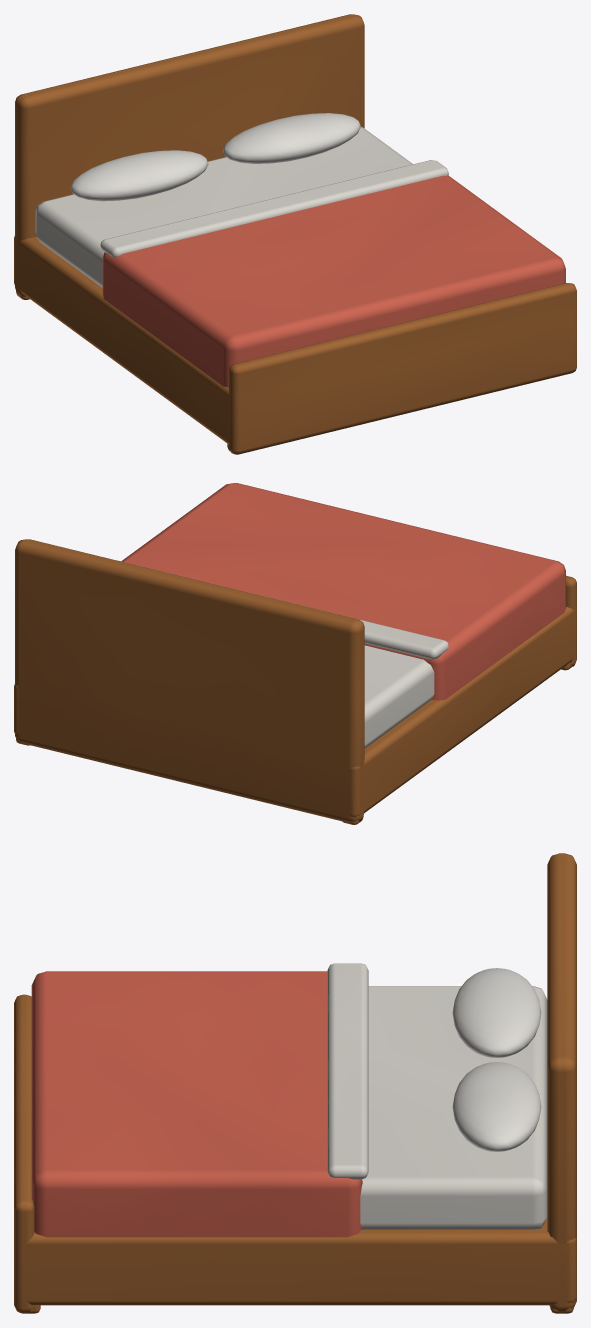
File: furn_bed_simple.glb
The picture shows the model from 3 angles, top to bottom: view 1: azimuth 30°, elevation 25°; view 2: azimuth 150°, elevation 25°; view 3: azimuth 270°, elevation 25°; orthographic projection. The views are drawn at different scales.
Parts seen in each view (by area): view 1: furn_bed_simple_main; view 2: furn_bed_simple_main; view 3: furn_bed_simple_main.
Part boxes in pixels (box(x1,y1,x2,y2)): furn_bed_simple_main: box(14, 14, 576, 454); furn_bed_simple_main: box(14, 483, 576, 824); furn_bed_simple_main: box(14, 853, 576, 1313).
Size of the model in its own units: 1.7 by 0.95 by 1.9.
